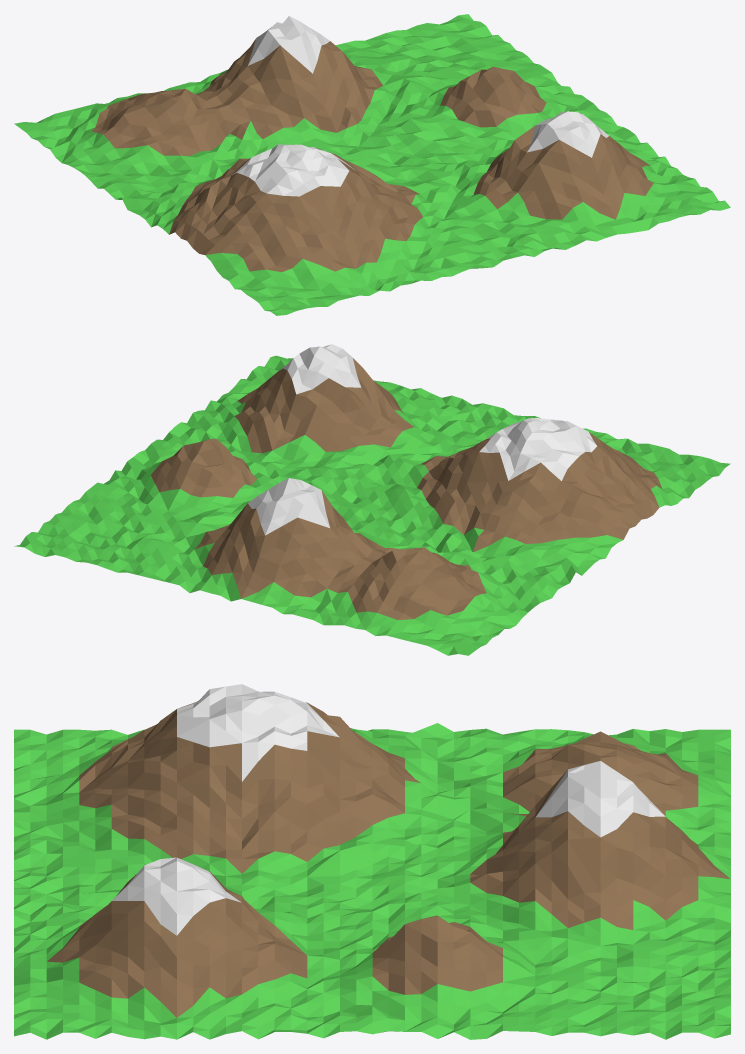
Rendered from mountains.dae.
3 views of the same model, one above another, from view 1: azimuth 30°, elevation 25°; view 2: azimuth 150°, elevation 25°; view 3: azimuth 270°, elevation 25° (orthographic). The views are drawn at different scales.
Parts seen in each view (by area): view 1: Plane; view 2: Plane; view 3: Plane.
Part boxes in pixels (bbox=[...]): Plane: bbox=[14, 14, 730, 315]; Plane: bbox=[14, 344, 730, 655]; Plane: bbox=[14, 684, 730, 1039].
Bounding box in the file's own units: 29.22 × 29.22 × 5.73.
